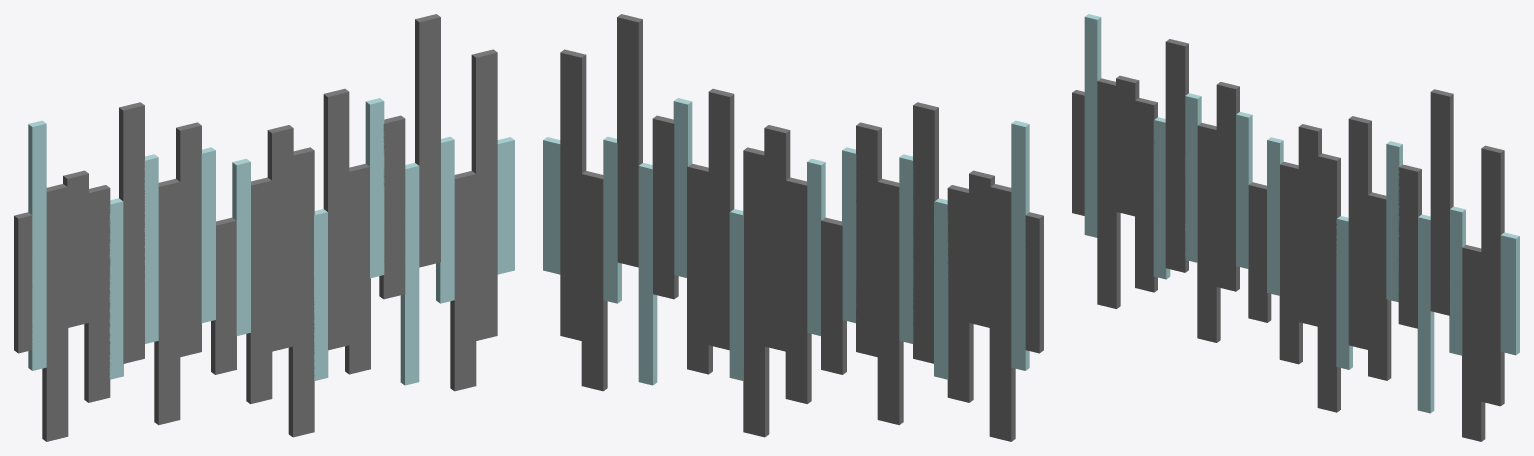
File: decor.fbx
The picture shows the model from 3 angles, left to right: view 1: azimuth 30°, elevation 25°; view 2: azimuth 150°, elevation 25°; view 3: azimuth 330°, elevation 25°; orthographic projection. The views are drawn at different scales.
Parts seen in each view (by area): view 1: Cube.001, Cube.011, Cube.009, Cube.004, Cube.020, Cube.024, Cube.018, Cube.017, Cube.002, Cube.012, Cube.013, Cube.022 (+15 smaller); view 2: Cube.001, Cube.011, Cube.009, Cube.024, Cube.004, Cube.018, Cube.020, Cube.013, Cube.002, Cube.017, Cube.022, Cube.012 (+15 smaller); view 3: Cube.001, Cube.011, Cube.020, Cube.004, Cube.009, Cube.024, Cube.018, Cube.017, Cube.012, Cube.002, Cube.013, Cube.008 (+15 smaller).
Part boxes in pixels (x1,y1,x2,y2): Cube.001: [471, 49, 497, 340]; Cube.011: [288, 147, 314, 437]; Cube.009: [323, 88, 349, 350]; Cube.004: [415, 14, 440, 267]; Cube.020: [119, 102, 144, 363]; Cube.024: [42, 184, 68, 441]; Cube.018: [154, 178, 180, 425]; Cube.017: [176, 122, 201, 357]; Cube.002: [450, 171, 476, 391]; Cube.012: [267, 125, 293, 351]; Cube.013: [246, 177, 272, 404]; Cube.022: [84, 185, 110, 402]; Cube.001: [560, 49, 586, 340]; Cube.011: [743, 147, 769, 437]; Cube.009: [708, 88, 734, 350]; Cube.024: [989, 184, 1015, 441]; Cube.004: [617, 14, 642, 267]; Cube.018: [877, 178, 903, 425]; Cube.020: [913, 102, 938, 363]; Cube.013: [785, 177, 811, 404]; Cube.002: [581, 171, 607, 391]; Cube.017: [856, 122, 881, 357]; Cube.022: [947, 185, 973, 402]; Cube.012: [764, 125, 790, 351]; Cube.001: [1481, 145, 1504, 406]; Cube.011: [1317, 153, 1340, 412]; Cube.020: [1165, 39, 1188, 272]; Cube.004: [1430, 89, 1453, 315]; Cube.009: [1348, 116, 1371, 349]; Cube.024: [1097, 78, 1120, 308]; Cube.018: [1197, 122, 1220, 342]; Cube.017: [1216, 82, 1239, 291]; Cube.012: [1298, 124, 1321, 326]; Cube.002: [1462, 245, 1485, 441]; Cube.013: [1279, 162, 1302, 364]; Cube.008: [1368, 192, 1391, 380].
Size of the model in its own units: 820 by 606 by 12.39.
